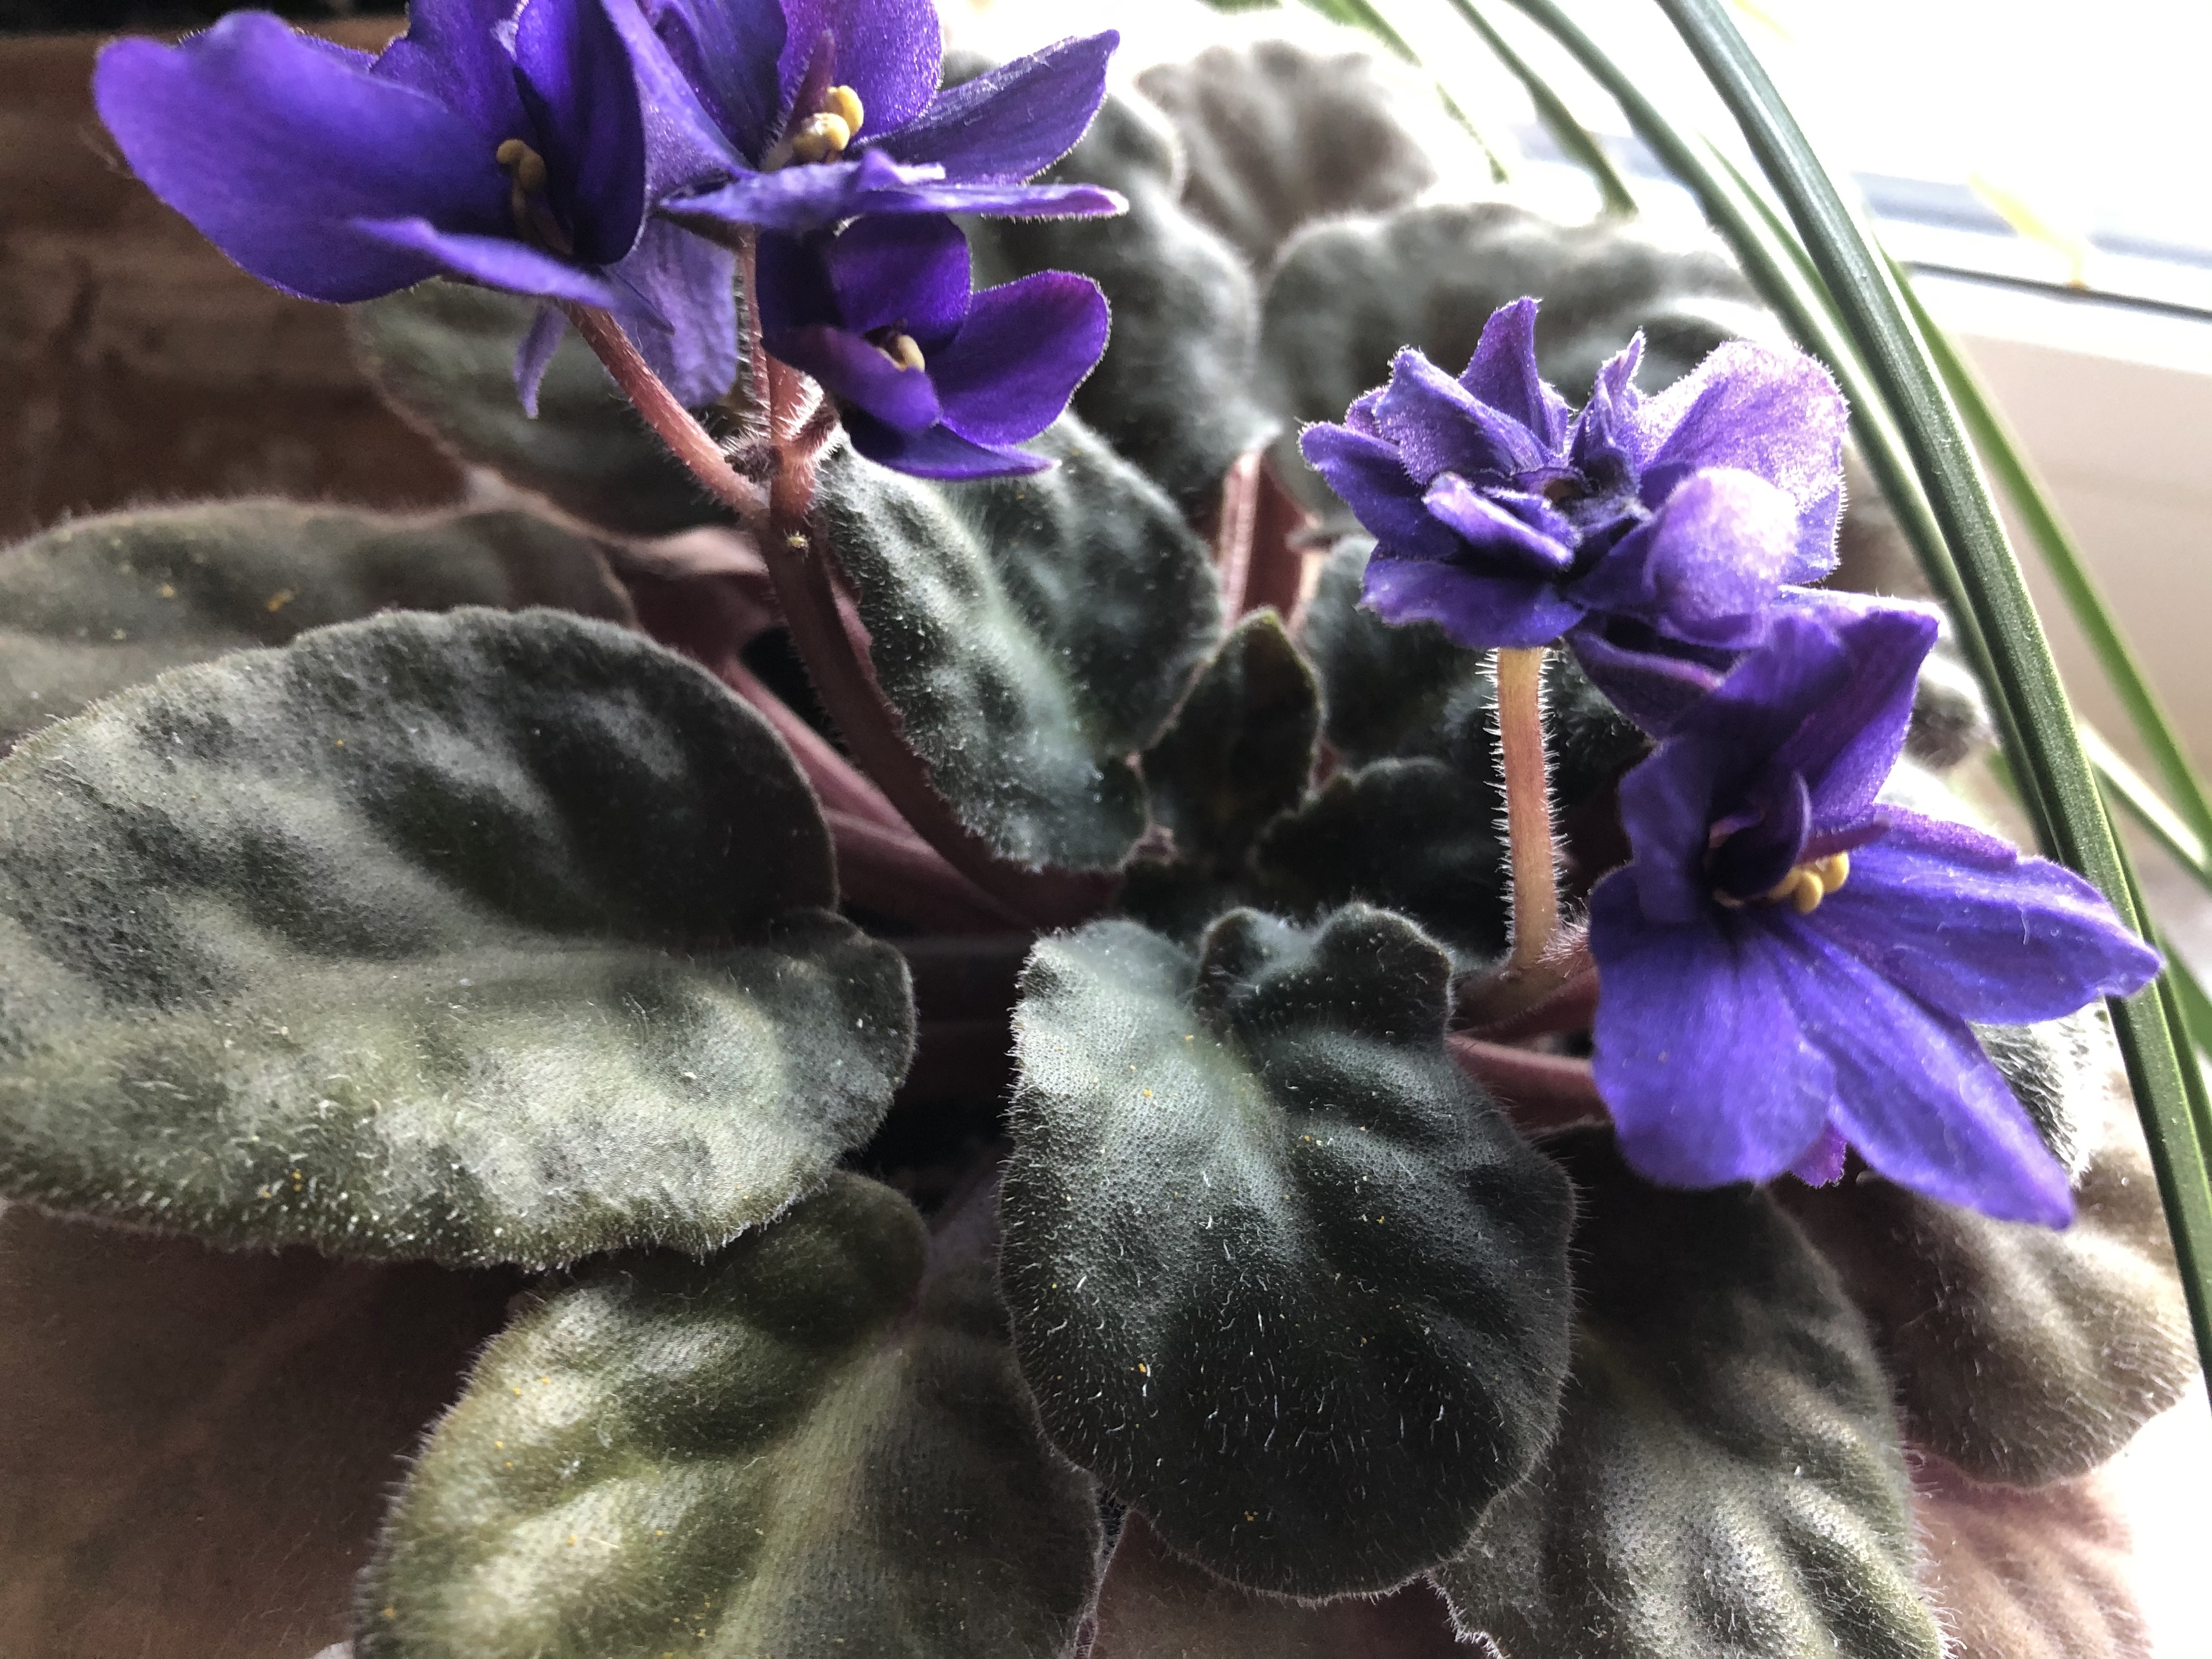ignore: (9, 12, 2196, 1647)
